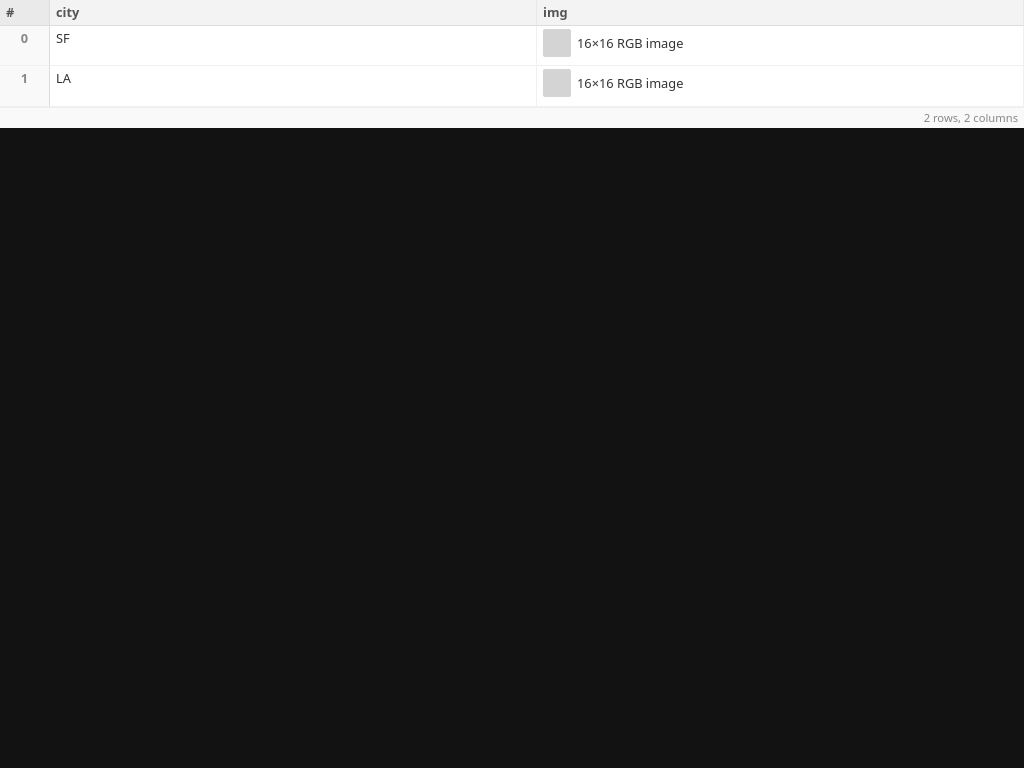
Test: typed cells in the grid › opens the full view on click, fetching that one cell
Click the text "16×16 RGB image" in the row of "LA" at (630, 83), box x1=577 y1=74 x2=683 y2=93
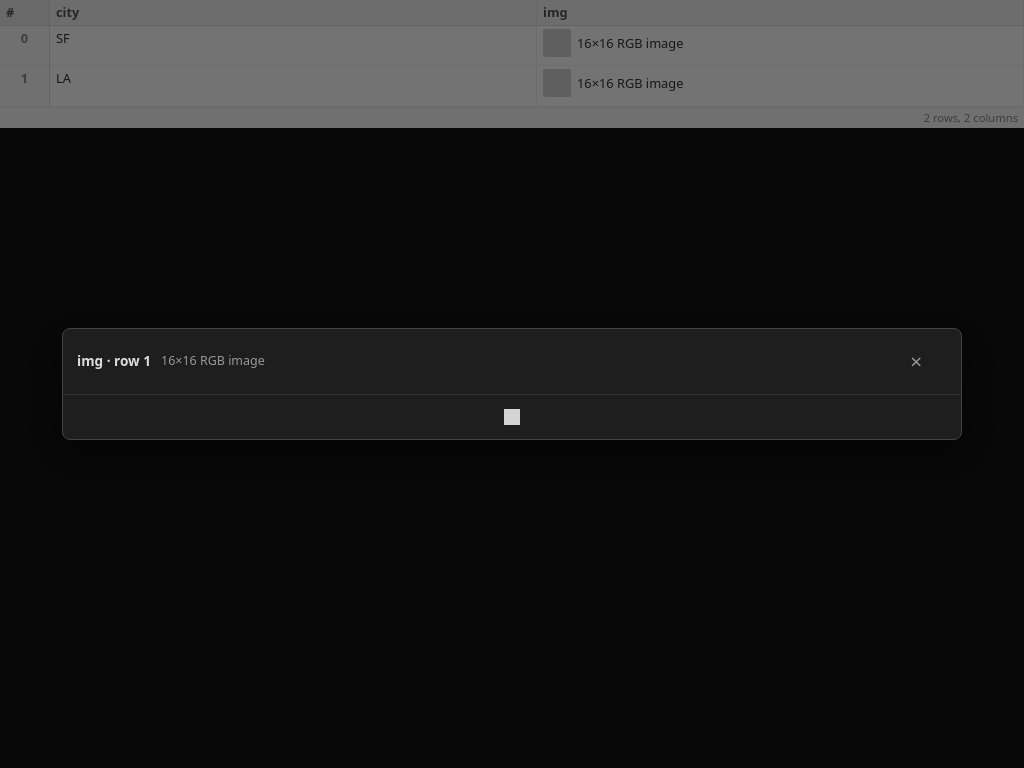
Result: the dialog is shown
